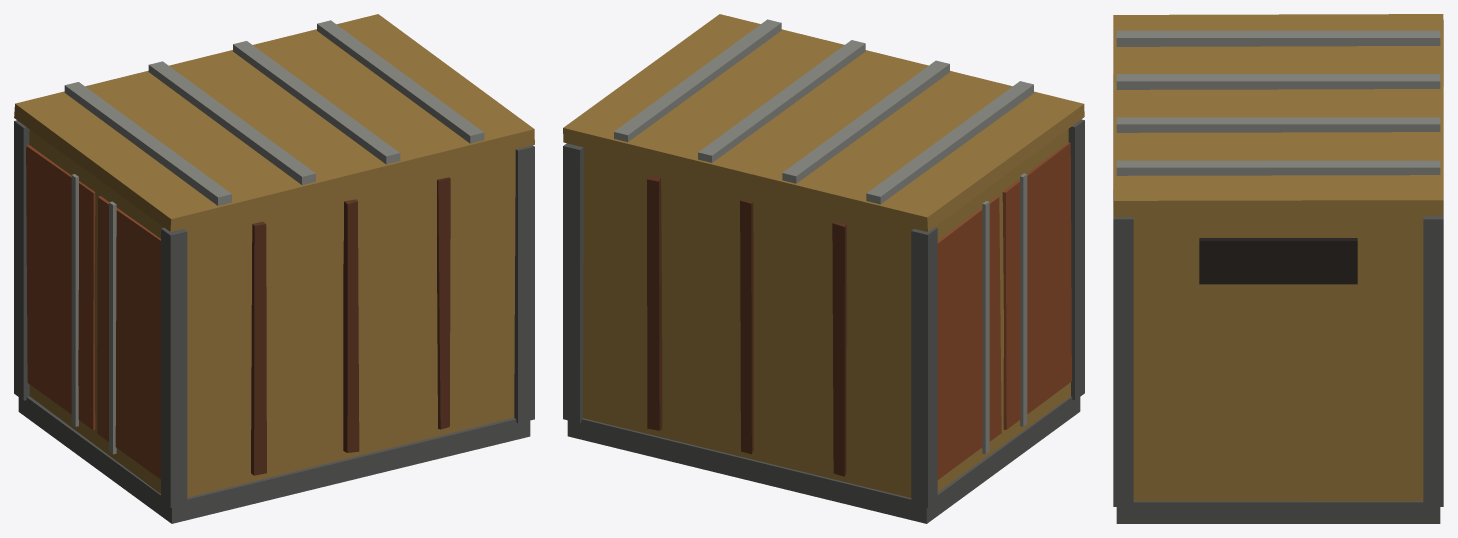
The model's file is cargo_trailer_box.glb.
The picture shows the model from 3 angles, left to right: view 1: azimuth 30°, elevation 25°; view 2: azimuth 150°, elevation 25°; view 3: azimuth 270°, elevation 25°; orthographic projection. The views are drawn at different scales.
Visible parts, largest first — view 1: cargo_trailer_box; view 2: cargo_trailer_box; view 3: cargo_trailer_box.
Part boxes in pixels (left/top/right/bottom): cargo_trailer_box: left=14, top=14, right=534, bottom=523; cargo_trailer_box: left=563, top=14, right=1084, bottom=523; cargo_trailer_box: left=1113, top=14, right=1443, bottom=523.
Size of the model in its own units: 1.3 by 1.07 by 0.968.
